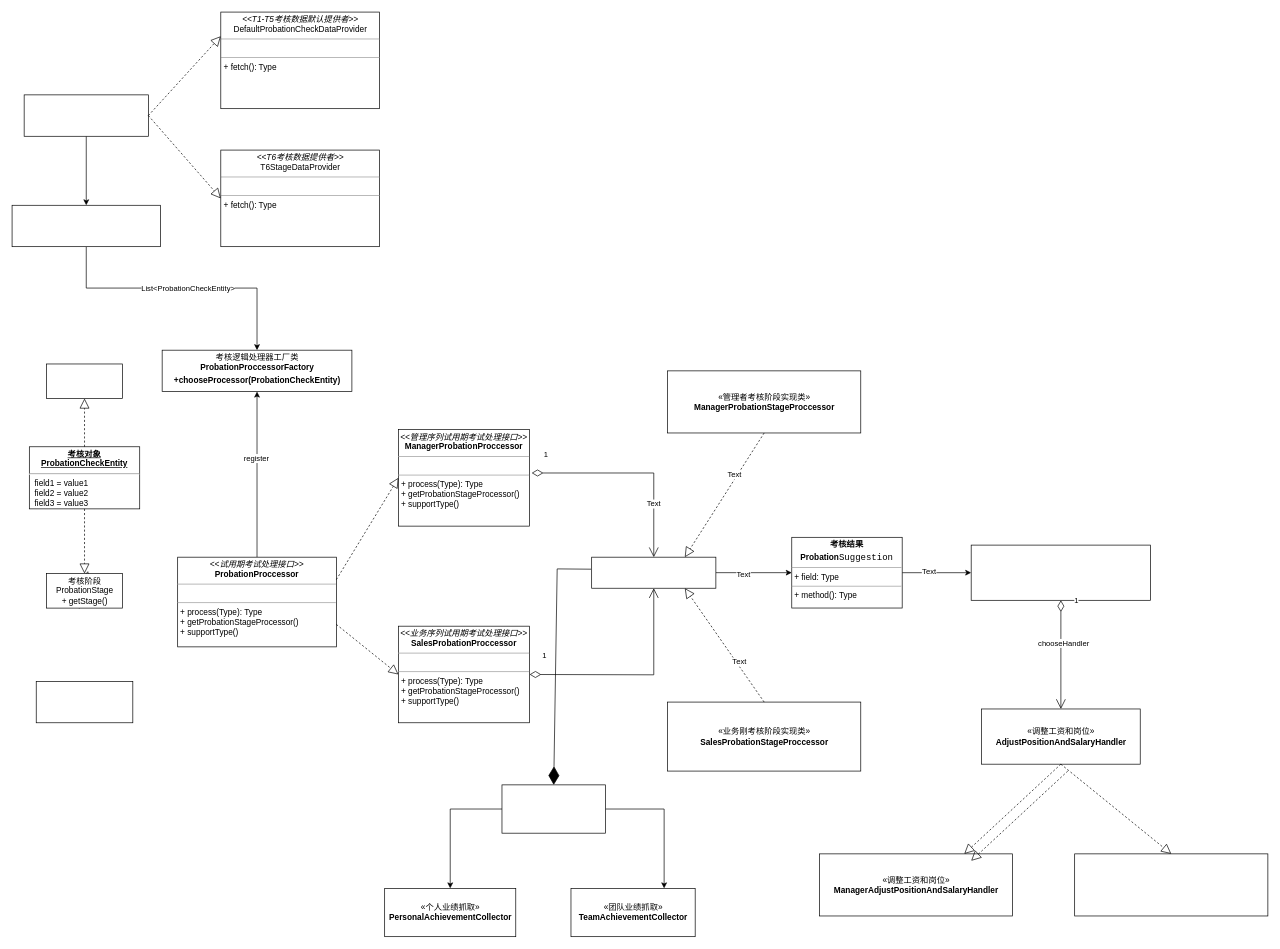
This 1280x949 diagram has some shape labels left out. The shapes that lost their labels are listed below. From the top down, each one's box as (x1, y1, x2, y2) in pixels, then its label:
(23, 94, 148, 136): «考核数据提供者» ProbationCheckDataProvider
(11, 205, 160, 247): 考核数据提供者集合 ProbationCheckDataProviders
(46, 363, 122, 398): 员工类型 EmployeeType + getType()
(591, 556, 716, 588): «试用期考核结算处理逻辑» ProbationStageProccessor
(970, 544, 1151, 600): «调整工资和岗位» AdjustPositionAndSalaryHandlerFactory
(36, 681, 133, 723): StageEnum
(501, 784, 605, 833): «业绩抓取» AchievementCollector
(1074, 853, 1268, 916): «调整工资和岗位» SalesAdjustPositionAndSalaryHandler
